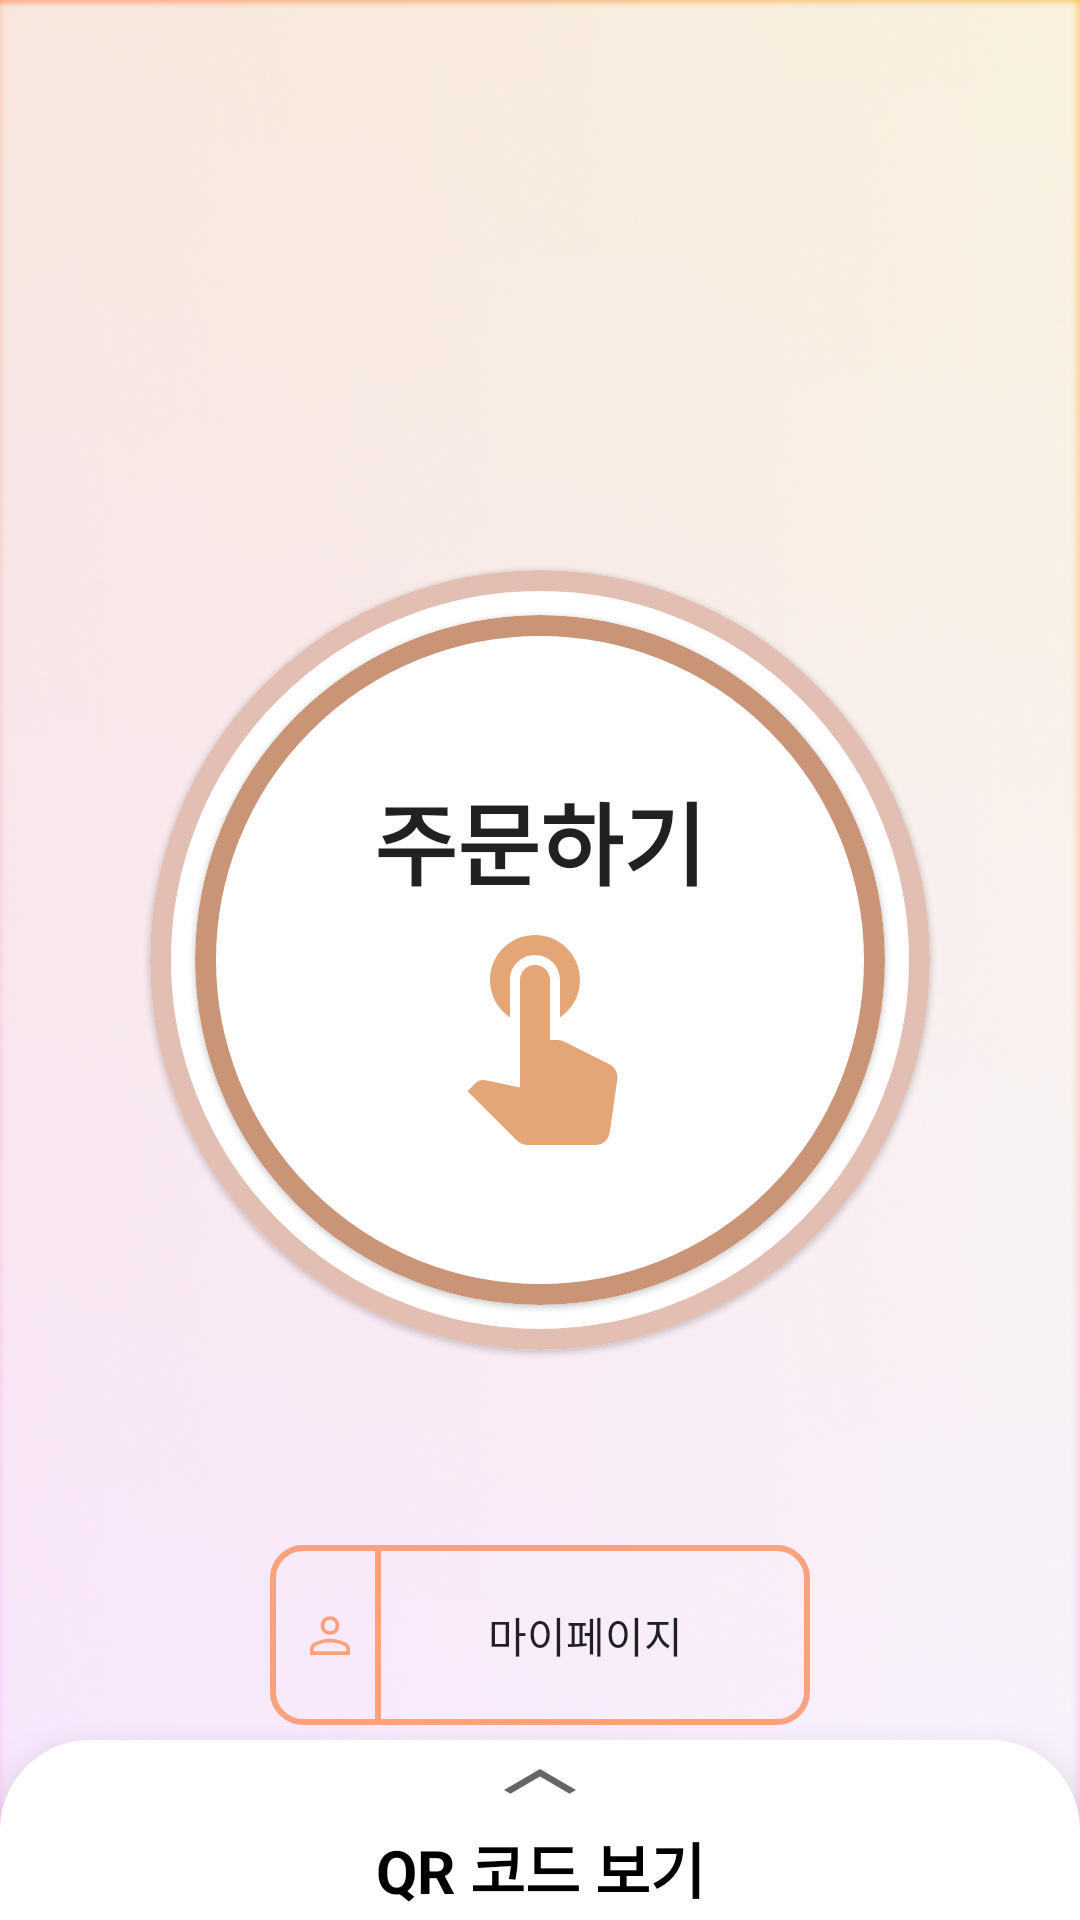

Where icons sit on this 1080w x 1920h app screen, as (x1, y1, x2, y2):
expand less: (504, 1769, 576, 1794)
person: (310, 1616, 350, 1655)
touch app: (467, 935, 618, 1145)
